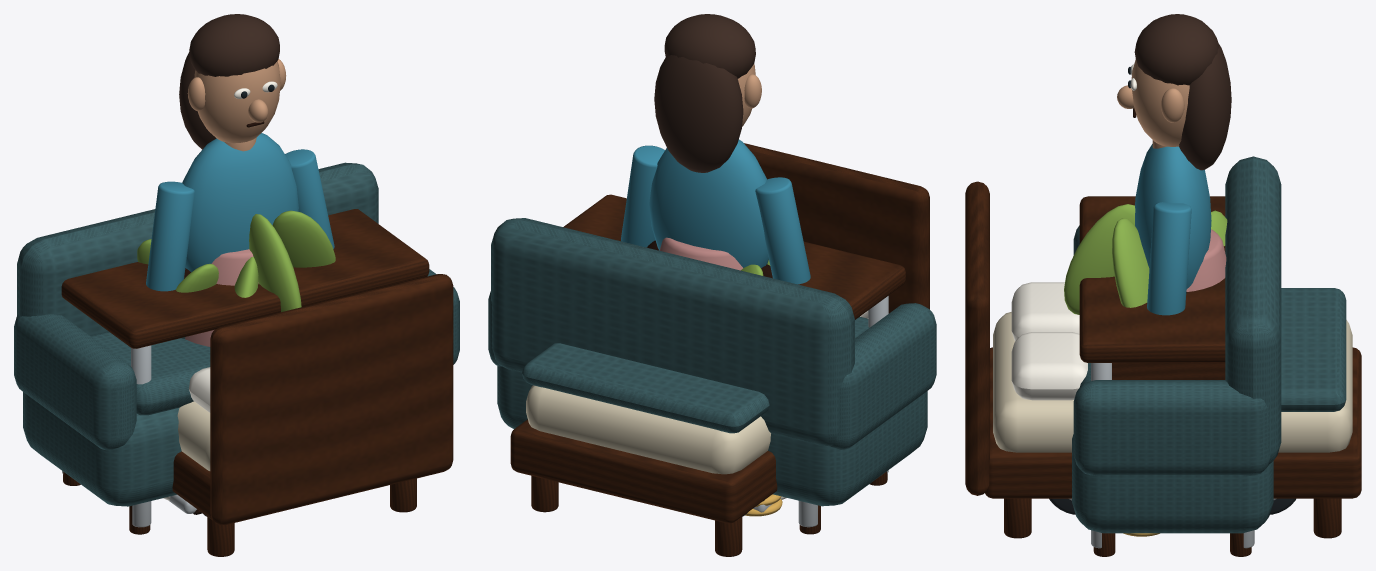
Rendered from life-art.glb.
3 views of the same model, side by side, from view 1: azimuth 30°, elevation 25°; view 2: azimuth 150°, elevation 25°; view 3: azimuth 270°, elevation 25° (orthographic). The views are drawn at different scales.
Visible parts, largest first — view 1: asset_bed_wood, asset_sofa_cloth, asset_desk_wood, asset_person_blue, asset_plant_leaf, asset_person_skin, asset_person_hair, asset_bed_cream, asset_woman_hair, asset_woman_pink, asset_desk_steel, asset_bed_porcelain; view 2: asset_sofa_cloth, asset_bed_wood, asset_person_blue, asset_bed_cloth, asset_bed_cream, asset_woman_hair, asset_desk_wood, asset_person_hair, asset_woman_pink, asset_desk_steel, asset_person_skin; view 3: asset_sofa_cloth, asset_bed_wood, asset_desk_wood, asset_person_blue, asset_bed_cream, asset_bed_cloth, asset_bed_porcelain, asset_plant_leaf, asset_person_hair, asset_woman_hair, asset_person_skin, asset_woman_pink (+3 smaller).
Boxes of the visible parts, box(x1,y1,x2,y2) form: asset_bed_wood: box(172, 274, 453, 556); asset_sofa_cloth: box(14, 162, 459, 506); asset_desk_wood: box(61, 209, 429, 348); asset_person_blue: box(146, 133, 334, 291); asset_plant_leaf: box(137, 210, 335, 311); asset_person_skin: box(187, 59, 286, 151); asset_person_hair: box(189, 14, 279, 76); asset_bed_cream: box(177, 401, 210, 470); asset_woman_hair: box(179, 52, 216, 149); asset_woman_pink: box(185, 249, 258, 346); asset_desk_steel: box(62, 345, 151, 527); asset_bed_porcelain: box(189, 367, 210, 412); asset_sofa_cloth: box(488, 218, 936, 506); asset_bed_wood: box(510, 143, 929, 556); asset_person_blue: box(621, 139, 810, 284); asset_bed_cloth: box(522, 343, 769, 433); asset_bed_cream: box(526, 318, 868, 474); asset_woman_hair: box(654, 55, 743, 172); asset_desk_wood: box(563, 194, 905, 319); asset_person_hair: box(664, 14, 755, 78); asset_woman_pink: box(659, 237, 742, 270); asset_desk_steel: box(798, 296, 888, 527); asset_person_skin: box(738, 64, 761, 126); asset_sofa_cloth: box(1072, 156, 1281, 533); asset_bed_wood: box(965, 181, 1361, 538); asset_desk_wood: box(1079, 196, 1225, 379); asset_person_blue: box(1135, 144, 1211, 315); asset_bed_cream: box(993, 312, 1352, 452); asset_bed_cloth: box(1281, 288, 1346, 411); asset_bed_porcelain: box(1011, 282, 1087, 400); asset_plant_leaf: box(1064, 204, 1227, 314); asset_person_hair: box(1134, 14, 1219, 85); asset_woman_hair: box(1179, 44, 1231, 170); asset_person_skin: box(1117, 59, 1189, 148); asset_woman_pink: box(1186, 229, 1226, 291).
Size of the model in its own units: 1.4 by 1.67 by 1.28.
Materials: 23 (4 with a texture image).
